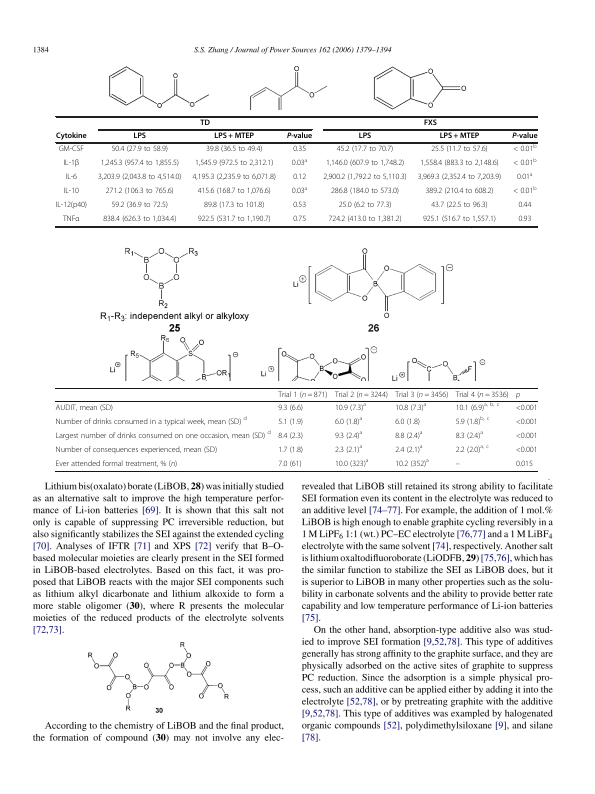borderless: (54, 115, 537, 226), (54, 386, 538, 471)
cell: (55, 429, 272, 441), (55, 415, 248, 427), (55, 445, 218, 455), (55, 459, 178, 469), (191, 173, 277, 183), (322, 173, 408, 183), (97, 173, 182, 183), (417, 173, 502, 183), (100, 159, 180, 169), (194, 159, 274, 169), (325, 159, 405, 169), (419, 159, 499, 169), (197, 187, 272, 197), (102, 215, 177, 225), (197, 215, 272, 225), (327, 215, 402, 225), (422, 215, 497, 225), (105, 187, 175, 197), (330, 187, 400, 197), (424, 187, 494, 197), (203, 201, 265, 211), (55, 403, 114, 413), (110, 145, 169, 155), (430, 145, 489, 155), (110, 201, 169, 211), (430, 201, 489, 211), (205, 145, 263, 155), (336, 145, 394, 155), (455, 401, 500, 413), (338, 201, 392, 211), (334, 390, 389, 399), (394, 390, 449, 399), (455, 390, 510, 399), (277, 390, 328, 399), (394, 457, 430, 469), (455, 415, 490, 427), (455, 443, 490, 455), (334, 457, 369, 469), (213, 132, 255, 142), (439, 132, 480, 142), (334, 401, 367, 413), (394, 401, 427, 413), (334, 415, 363, 427), (334, 429, 363, 441), (394, 429, 423, 441), (455, 429, 484, 441), (334, 443, 363, 455), (394, 443, 423, 455), (55, 201, 88, 211), (55, 132, 87, 142), (512, 144, 537, 155), (512, 158, 537, 169), (512, 186, 537, 197), (277, 403, 304, 413), (277, 417, 304, 427), (394, 417, 421, 427), (277, 431, 304, 441), (277, 445, 304, 455), (286, 132, 313, 142), (511, 132, 538, 142), (58, 145, 85, 155), (277, 459, 302, 469), (515, 403, 538, 413), (515, 417, 538, 427), (515, 431, 538, 441), (515, 445, 538, 455), (515, 459, 534, 469), (291, 158, 308, 169), (516, 172, 533, 183), (291, 186, 308, 197), (62, 159, 80, 169), (62, 215, 80, 225), (63, 187, 80, 197), (132, 132, 147, 142), (292, 145, 307, 155), (292, 173, 307, 183), (292, 201, 307, 211), (517, 201, 532, 211), (292, 215, 307, 225), (517, 215, 532, 225), (358, 132, 372, 142), (64, 173, 78, 183), (423, 119, 438, 128), (199, 119, 211, 128), (515, 392, 521, 399), (455, 463, 461, 467)
